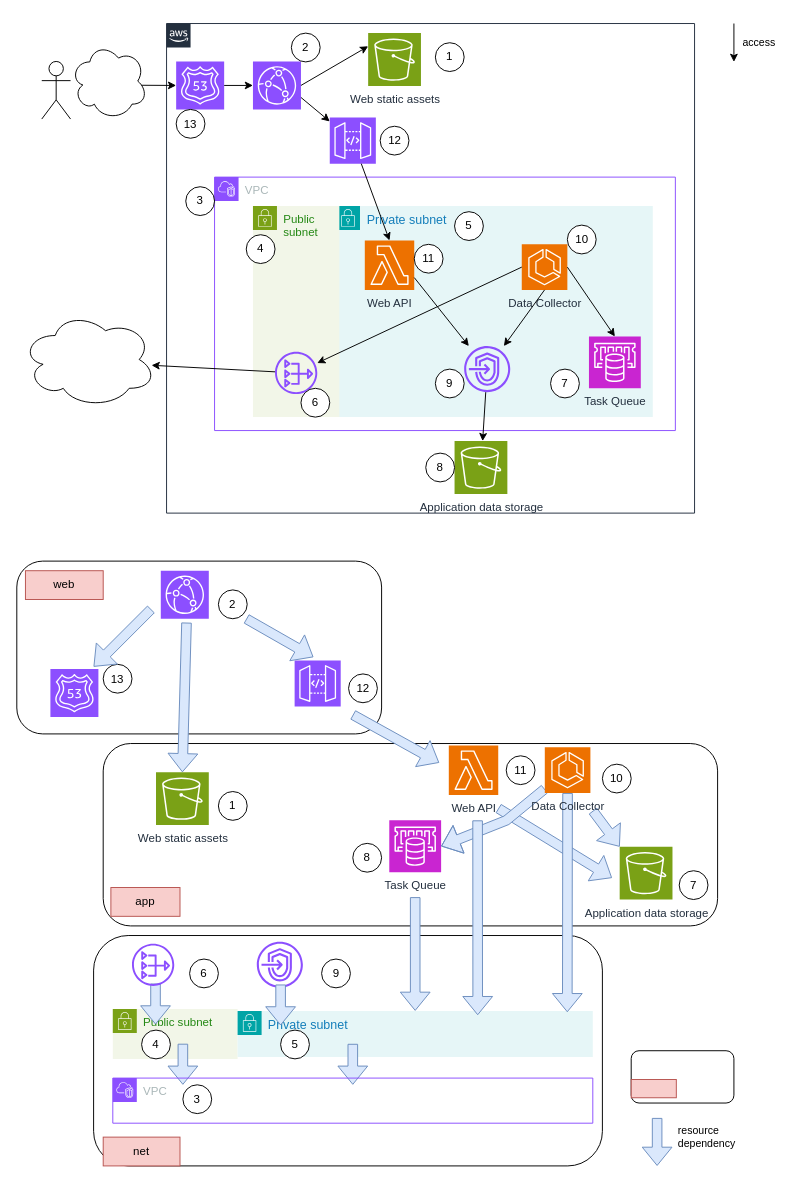
The diagram is 792 pixels wide and 1183 high, and some of its shapes have lost their labels. Each missing label, with the box of its shape:
Application data source: (21, 311, 156, 408)
AWS Cloud: (166, 23, 695, 513)
module: (630, 1050, 734, 1103)
